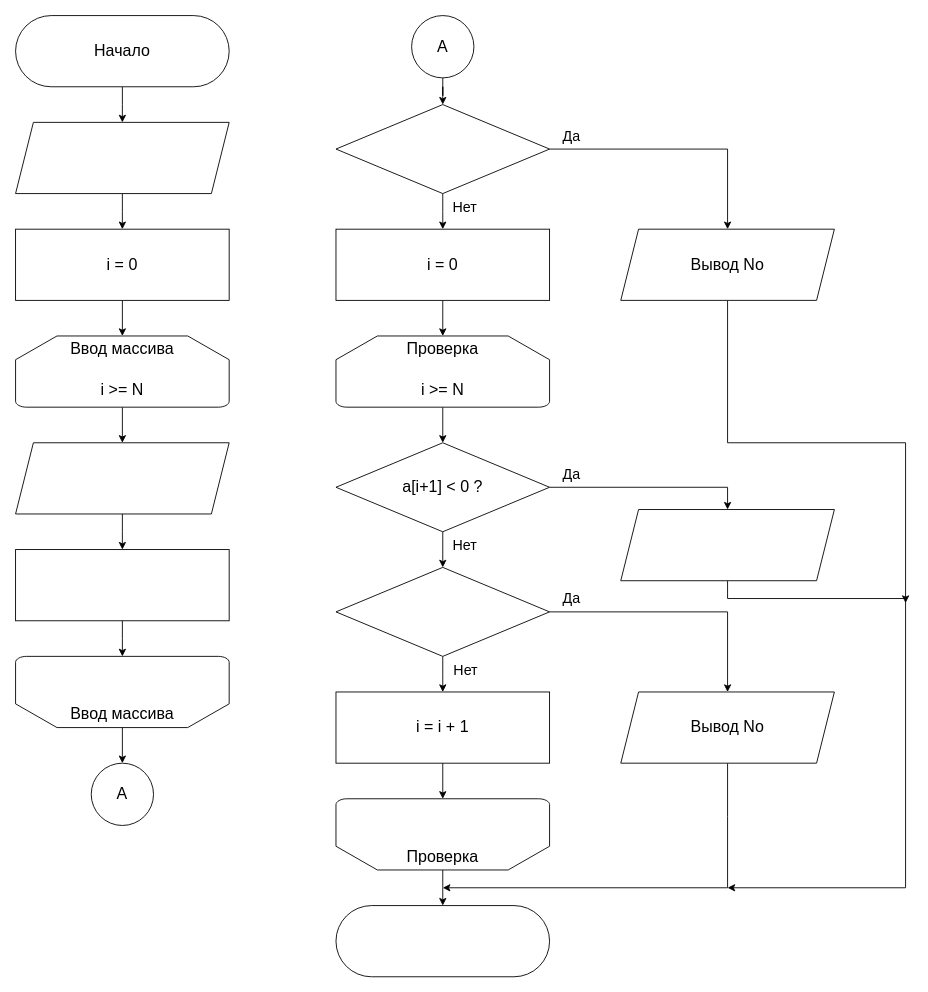
Image size: 928x992. Some labels were removed from this diagram. The box of each missing label's shape, as (x1, y1, x2, y2) in pixels:
a[0] < 0 ?: (335, 104, 550, 194)
a[i] <= a[i+1] ?: (335, 566, 550, 656)
i = i +1: (15, 549, 229, 621)
Ввод a[i]: (15, 442, 229, 514)
Ввод N: (15, 121, 229, 194)
Вывод Yes: (620, 509, 834, 581)
Конец: (335, 905, 550, 977)
